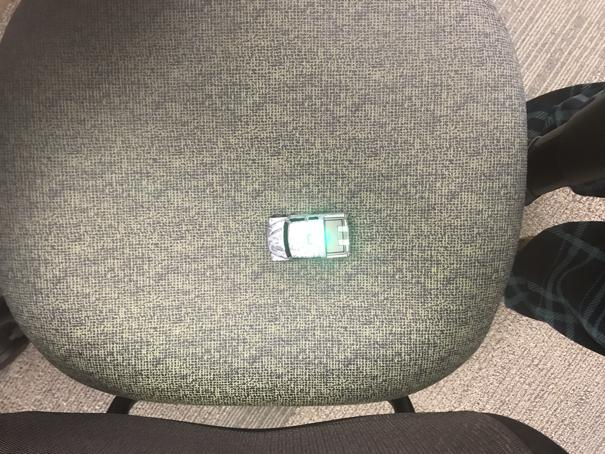MXT: (268, 211, 354, 262)
